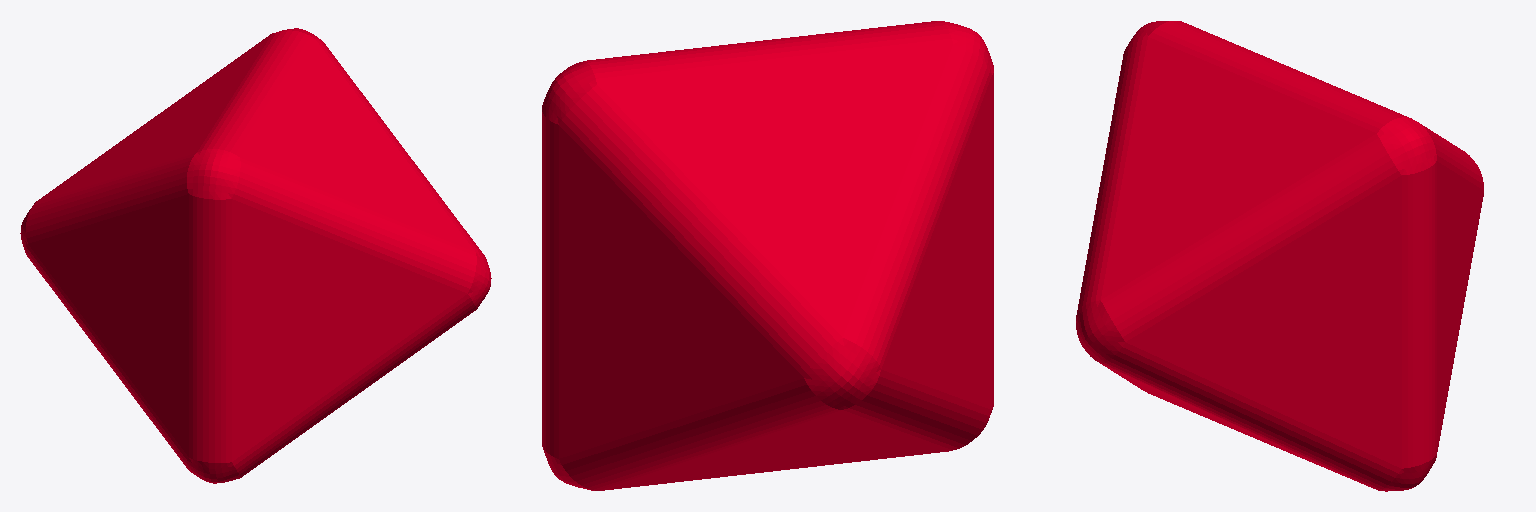
robot.urdf — octahedron.urdf:
<?xml version="1.0" ?>
<robot name="octahedron.urdf">

  <link name="octahedron">
    <contact>
    	<friction_anchor/>
    	   <lateral_friction value="1.0"/>
    </contact>
    <inertial>
      <origin rpy="0 0 0" xyz="0 0 0"/>
       <mass value=".1"/>
       <inertia ixx="1" ixy="0" ixz="0" iyy="1" iyz="0" izz="1"/>
    </inertial>
    <visual>
      <origin rpy="0 0 0" xyz="0 0 0"/>
      <geometry>
				<mesh filename="octahedron_rounded.obj" scale="1.0 1.0 1.0"/>
      </geometry>
       <material name="red">
        <color rgba="0.9 0 0.2 1.0"/>
      </material>
    </visual>
    <collision>
      <origin rpy="0 0 0" xyz="0 0 0"/>
      <geometry>
				<mesh filename="octahedron_rounded.obj" scale="1.0 1.0 1.0"/>
      </geometry>
    </collision>
  </link>


</robot>

--- Facts derived from the render (not from the file) ---
The picture shows the robot from 3 angles, left to right: view 1: azimuth 30°, elevation 25°; view 2: azimuth 150°, elevation 25°; view 3: azimuth 270°, elevation 25°; orthographic projection.
Robot: octahedron.urdf — 1 links, 0 joints (none); root link octahedron; default pose: all joints at 0.
Visible links, largest first — view 1: octahedron; view 2: octahedron; view 3: octahedron.
Link boxes in pixels (x1,y1,x2,y2): octahedron: (20,28,491,483); octahedron: (542,21,993,490); octahedron: (1076,21,1483,491).
Size in the robot's own frame: 0.0842 by 0.0842 by 0.0842 metres.
Meshes: 1 distinct files referenced, 1 mesh visuals loaded (1 OBJ).